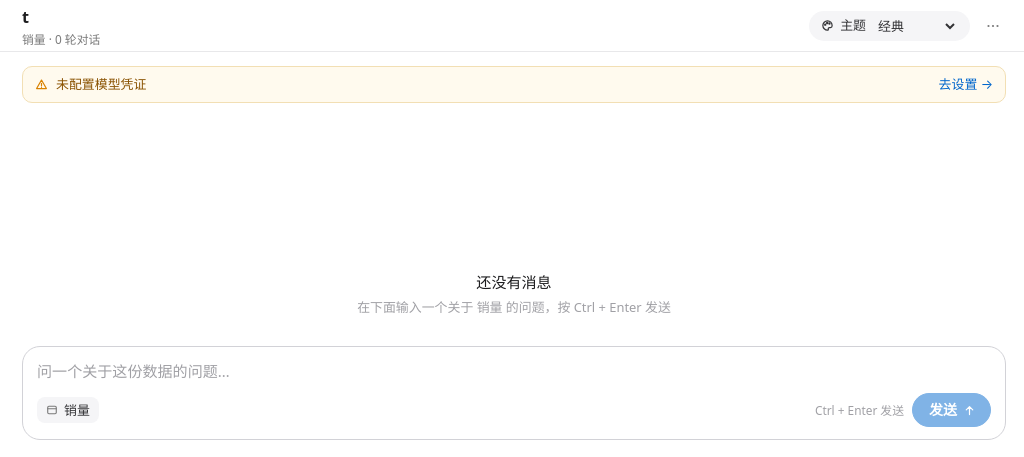
Test: 未配置 Key：横幅常显；点发送前端拦下，不发请求
The width and height of the screenshot is (1024, 457).
expect the text "还没有消息" is shown: met, box x1=476 y1=272 x2=552 y2=292
expect the message with test id "key-banner" shows "未配置模型凭证": met, box x1=56 y1=75 x2=146 y2=93
Type "q" into the text box named "提问" at (514, 371), box x1=37 y1=359 x2=991 y2=383
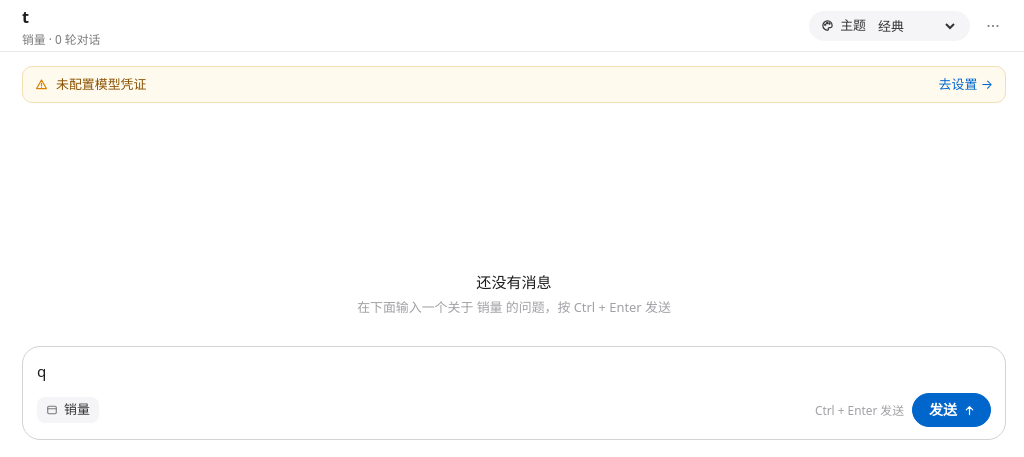
Click the button "发送" at (952, 410), box x1=912 y1=393 x2=991 y2=427
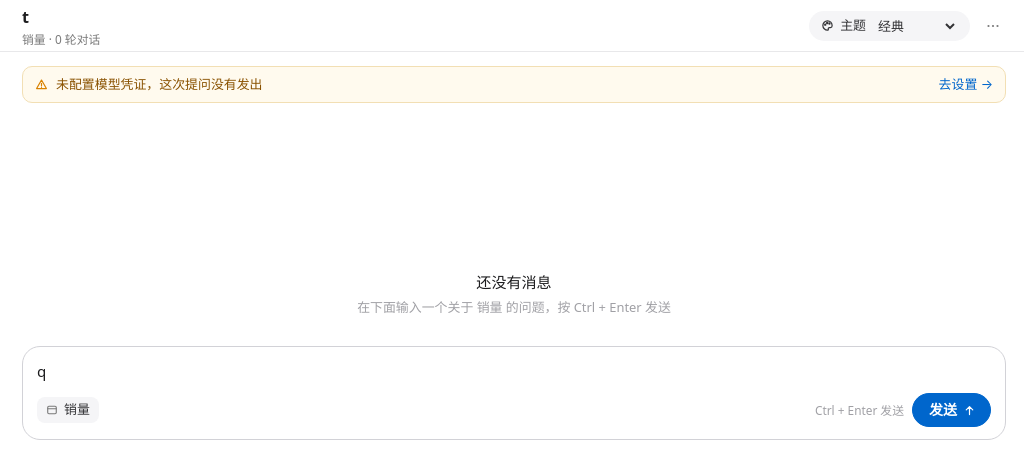
expect the message with test id "key-banner" shows "这次提问没有发出": met, box x1=146 y1=75 x2=263 y2=93
